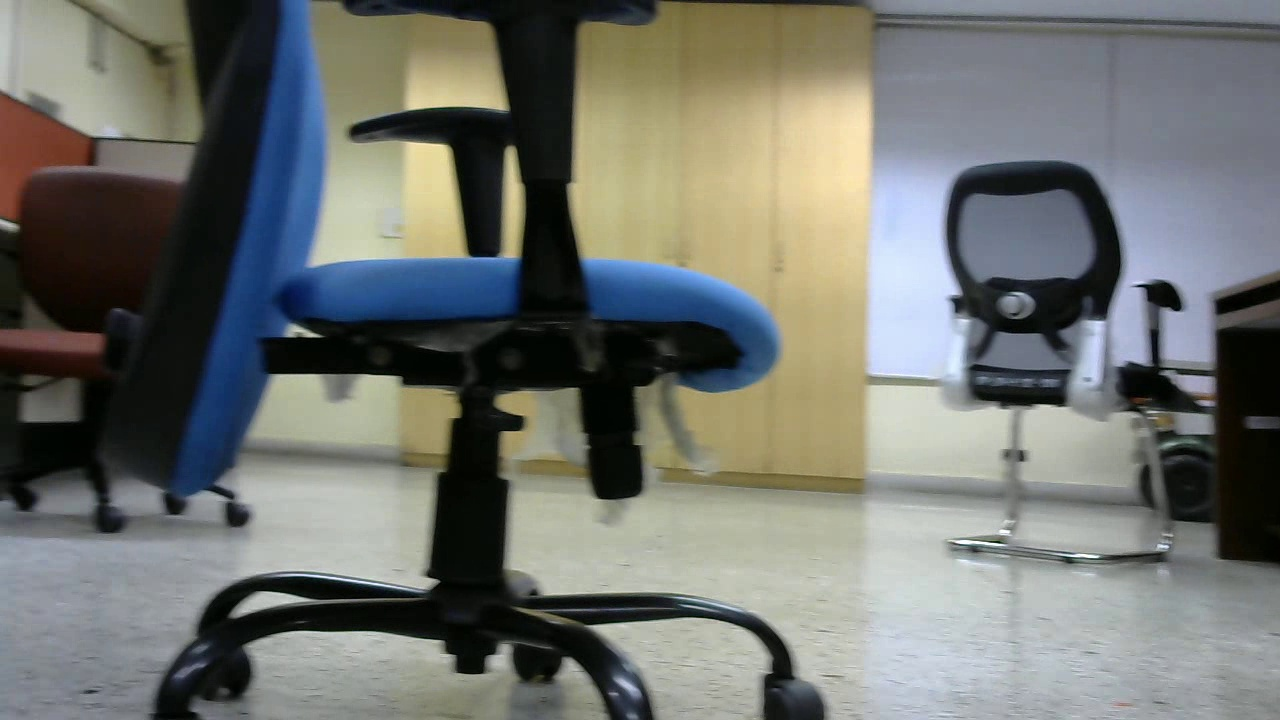chair: (181, 5, 822, 720), (1, 157, 186, 539)
